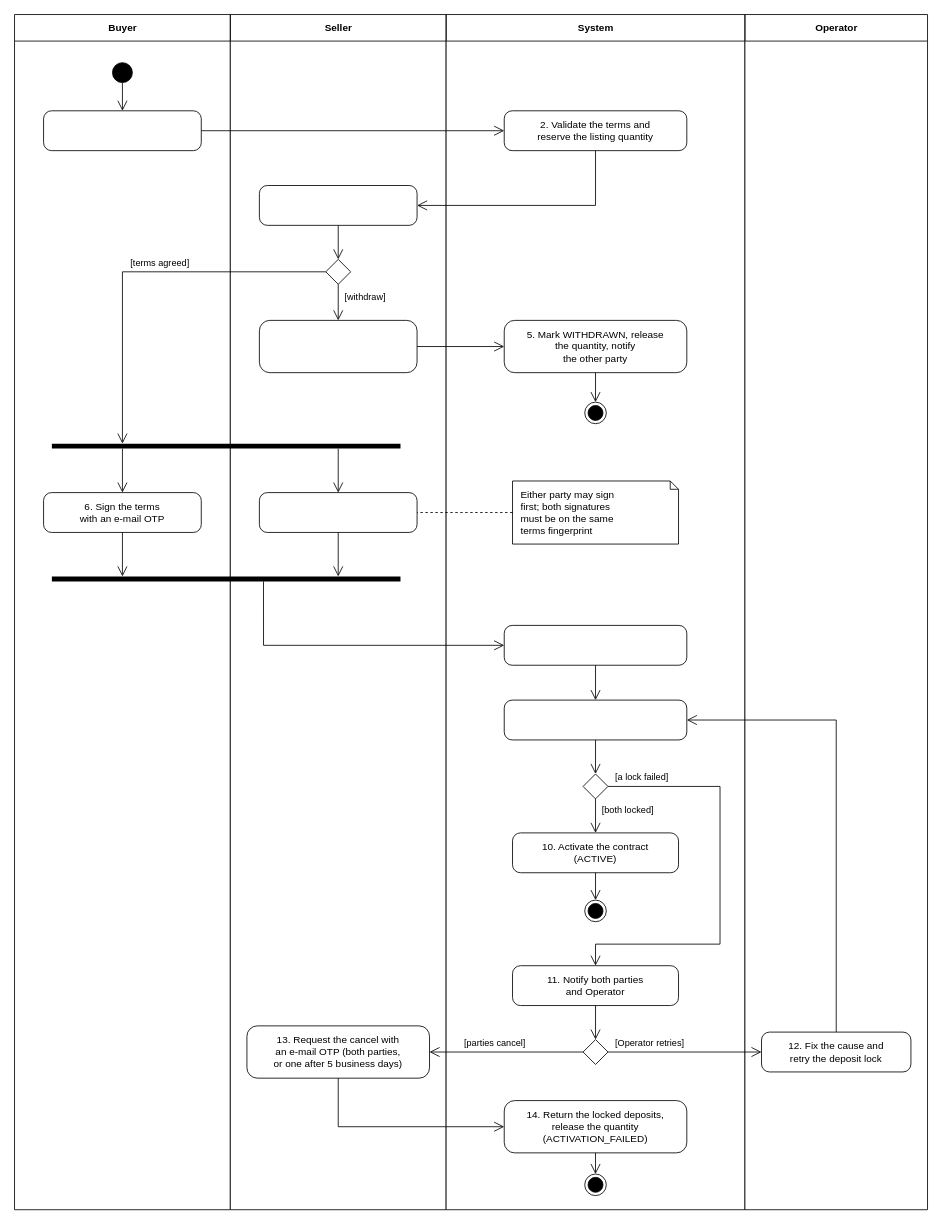
Some shapes in this 942 by 1224 pixel diagram are drawn without their labels. Each missing label, with the centre of its shape:
1. Choose a listing and create an offer: the point at 122,130
3. Review and revise the terms (either party): the point at 338,205
4. Withdraw the offer (either party, before the second signature): the point at 338,346
7. Sign the same terms with an e-mail OTP: the point at 338,512
8. Check both signatures match the terms (SIGNED): the point at 595,645
9. Ask the bank to lock both deposits (automatic retries): the point at 595,719
